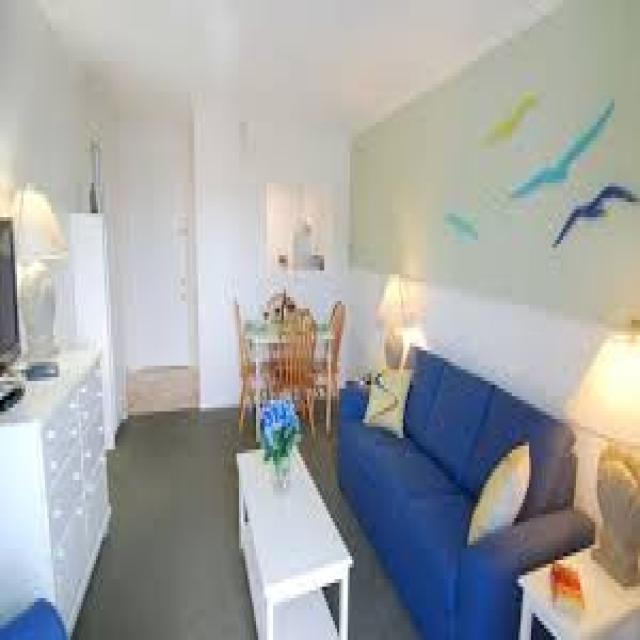Chair: (264, 305, 318, 430), (310, 298, 353, 448), (229, 305, 271, 425)
Sofa: (337, 346, 591, 640)
Table: (233, 439, 353, 635)
tv: (2, 224, 22, 368)
